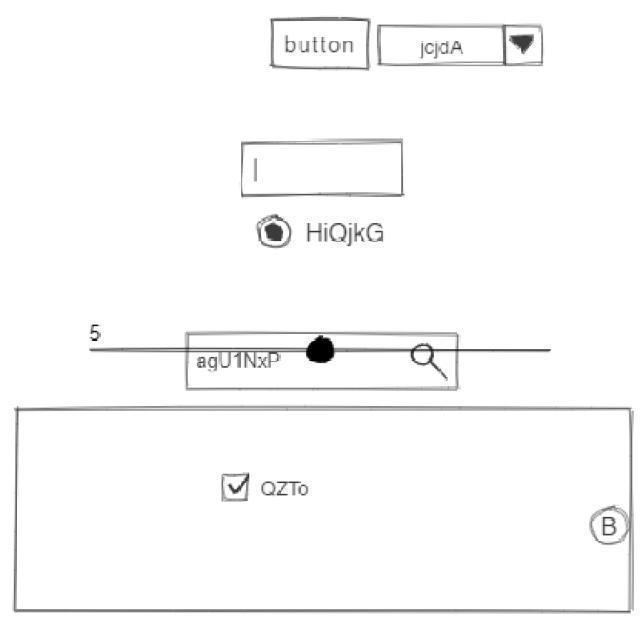button: (268, 14, 374, 73)
checkbox: (219, 471, 313, 506)
container: (11, 404, 638, 617)
icon-button: (588, 503, 631, 549)
input: (239, 139, 408, 201)
radio: (256, 213, 295, 251)
search: (184, 328, 464, 396)
select: (376, 23, 548, 70)
slider: (113, 335, 554, 365)
